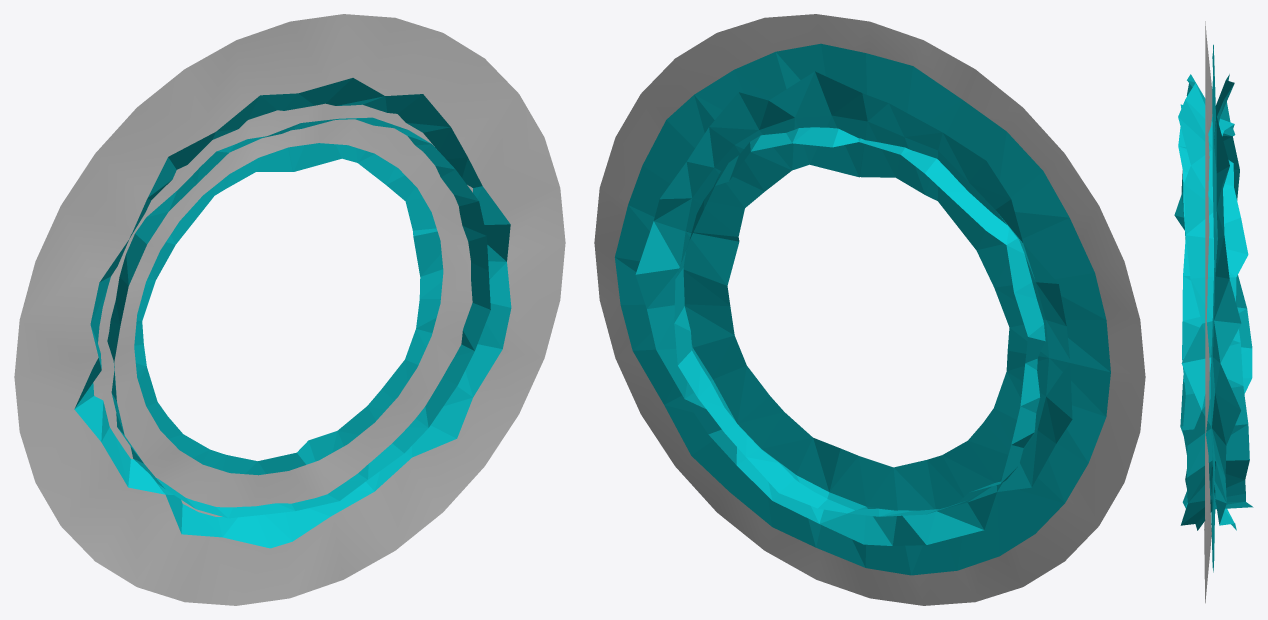
Rendered from Planet.Ring.000.fbx.
3 views of the same model, side by side, from view 1: azimuth 30°, elevation 25°; view 2: azimuth 150°, elevation 25°; view 3: azimuth 270°, elevation 25° (orthographic). The views are drawn at different scales.
Visible parts, largest first — view 1: Planet.DustRingFine, Planet.DustRing.001; view 2: Planet.DustRing.001, Planet.DustRingFine; view 3: Planet.DustRing.001, Planet.DustRingFine.
Part boxes in pixels (bbox=[...]): Planet.DustRingFine: bbox=[14, 14, 565, 605]; Planet.DustRing.001: bbox=[74, 78, 511, 548]; Planet.DustRing.001: bbox=[614, 43, 1110, 575]; Planet.DustRingFine: bbox=[594, 14, 1145, 605]; Planet.DustRing.001: bbox=[1174, 44, 1253, 572]; Planet.DustRingFine: bbox=[1204, 21, 1212, 603].
Size of the model in its own units: 18.78 by 18.78 by 2.51.
